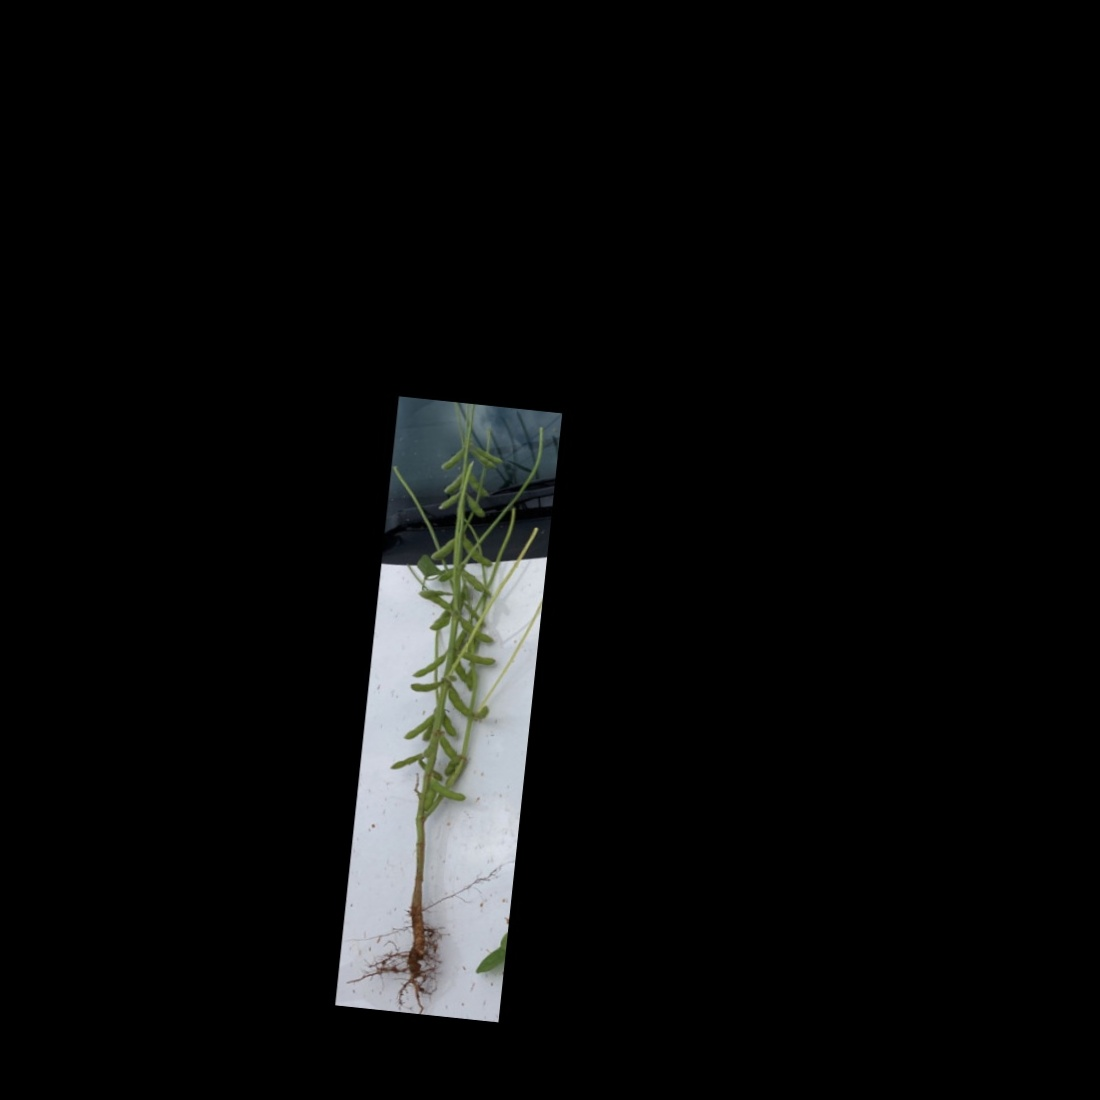pod: (458, 533, 495, 570), (454, 616, 500, 646), (400, 711, 437, 744), (442, 680, 473, 718), (387, 748, 433, 773), (411, 652, 447, 681), (459, 567, 495, 596), (430, 776, 469, 802), (465, 441, 506, 465), (435, 733, 468, 763), (459, 489, 489, 521), (439, 441, 465, 474), (427, 535, 455, 565), (464, 448, 501, 471), (406, 675, 442, 696), (457, 651, 497, 668), (466, 473, 493, 499), (443, 470, 467, 496), (434, 490, 460, 512), (442, 752, 464, 778)
soy: (360, 415, 539, 986)
